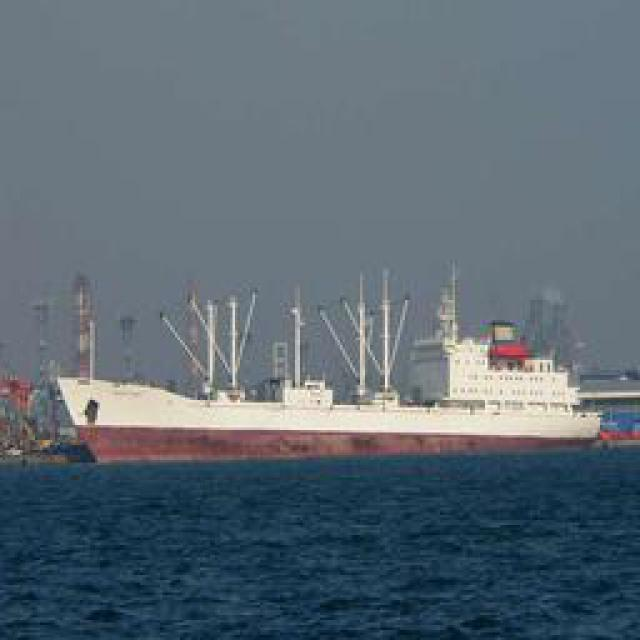Ship: (50, 316, 610, 476)
